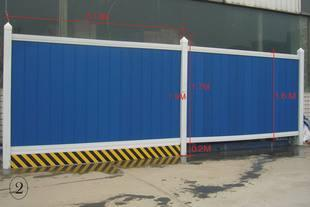sign: (1, 22, 310, 157)
